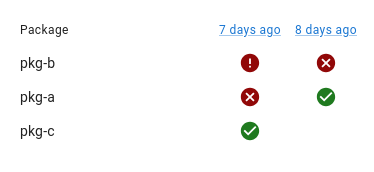
Test: MatrixTab › navigates to the run tests filtered to the package
The image size is (374, 172).
Click the link titled "pkg-a, 2026-11-13 10:00: passed" at x=326, y=97, box [315,86,337,108]
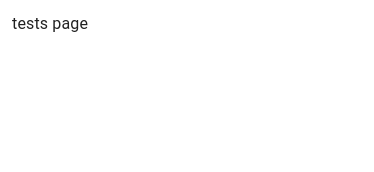
expect the text "tests page" is shown: met, box [12,14,88,33]
